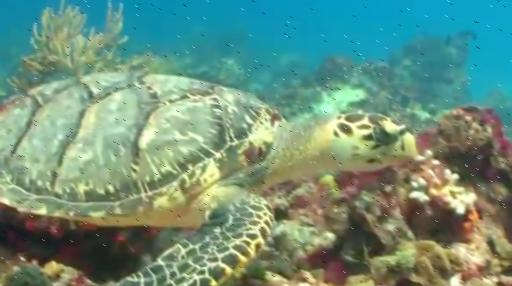Fish: (0, 72, 417, 285)
